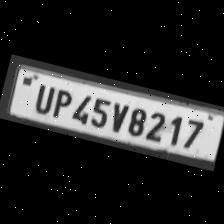1: (162, 110, 186, 147)
2: (140, 106, 170, 144)
4: (67, 88, 94, 124)
5: (84, 93, 114, 129)
7: (176, 114, 207, 152)
8: (122, 101, 148, 138)
P: (46, 84, 74, 120)
U: (28, 78, 56, 114)
V: (104, 96, 131, 134)
